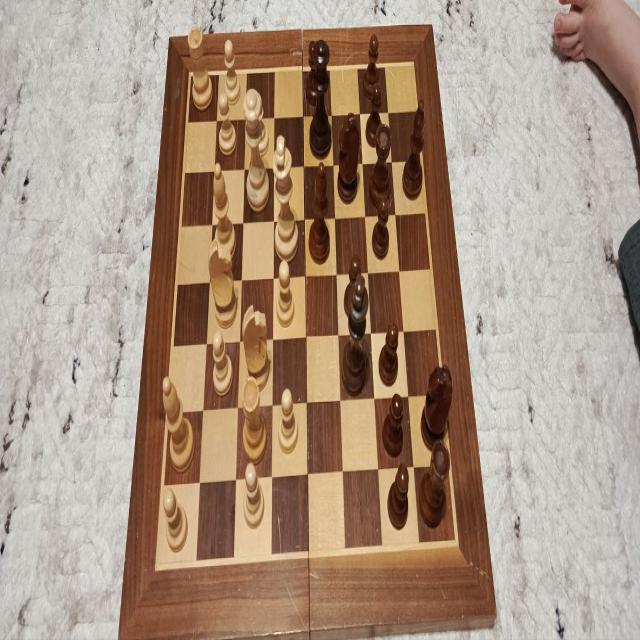black_bishop: (402, 98, 426, 198), (308, 161, 330, 265)
black_king: (342, 272, 370, 392)
black_knight: (420, 363, 453, 451), (337, 113, 360, 204)
black_pawn: (387, 462, 410, 527), (382, 394, 405, 456), (378, 323, 399, 385), (363, 33, 381, 105), (365, 82, 384, 149), (344, 253, 362, 320), (372, 195, 390, 258), (305, 40, 320, 107)
black_queen: (309, 39, 332, 158)
black_rook: (418, 440, 451, 527), (369, 121, 392, 211)
white_bishop: (162, 377, 195, 472), (212, 163, 236, 261)
white_king: (272, 135, 299, 262)
white_knight: (209, 236, 237, 330), (242, 302, 270, 393)
white_pawn: (163, 487, 187, 552), (212, 329, 232, 398), (278, 387, 298, 452), (244, 461, 264, 525), (222, 38, 240, 108), (276, 258, 294, 324), (218, 93, 236, 156), (253, 95, 270, 157)
white_queen: (242, 88, 270, 212)
white_rook: (187, 27, 213, 110), (242, 376, 266, 460)
